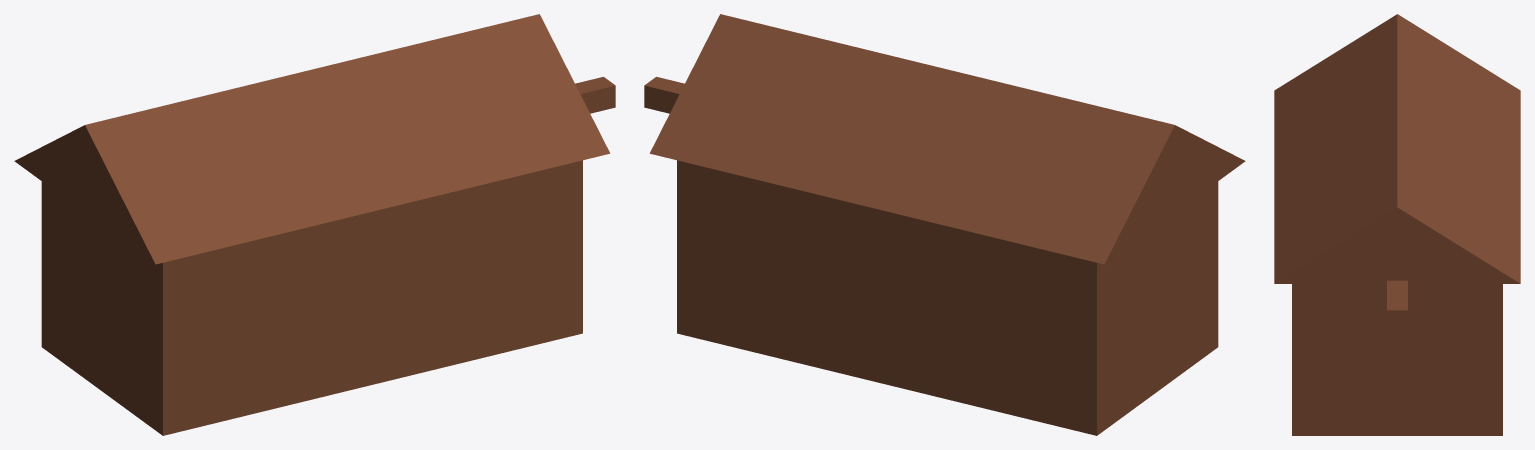
The model's file is tannery.obj.
3 renders of one model, left to right at view 1: azimuth 30°, elevation 25°; view 2: azimuth 150°, elevation 25°; view 3: azimuth 270°, elevation 25°, orthographic. The views are drawn at different scales.
Size of the model in its own units: 0.75 by 0.37 by 0.35.
